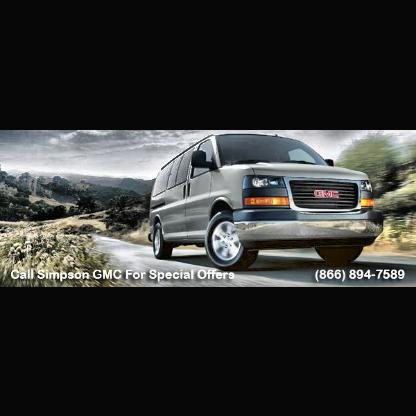GMC Savana Van 2012: (149, 135, 381, 270)
